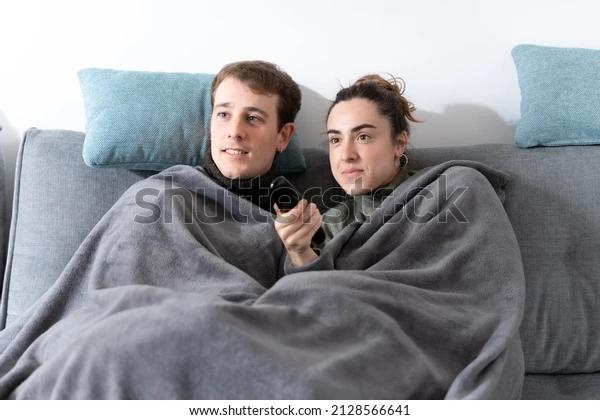blanket: (0, 162, 529, 400)
